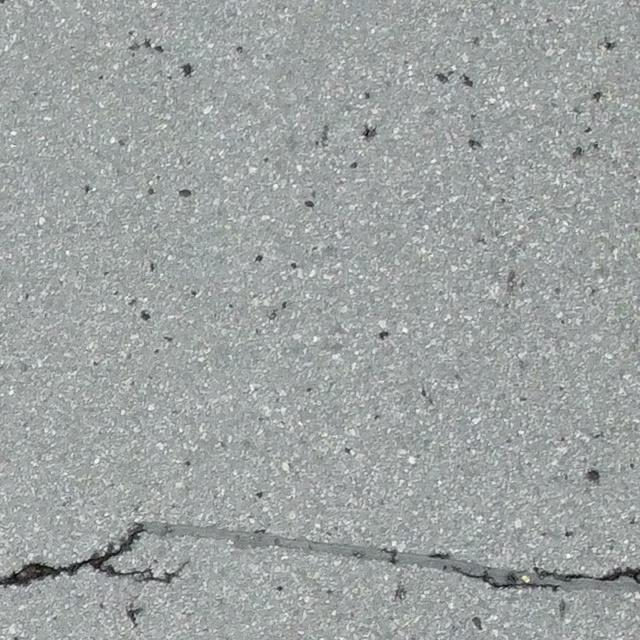TransverseCrack: (1, 520, 640, 594)
